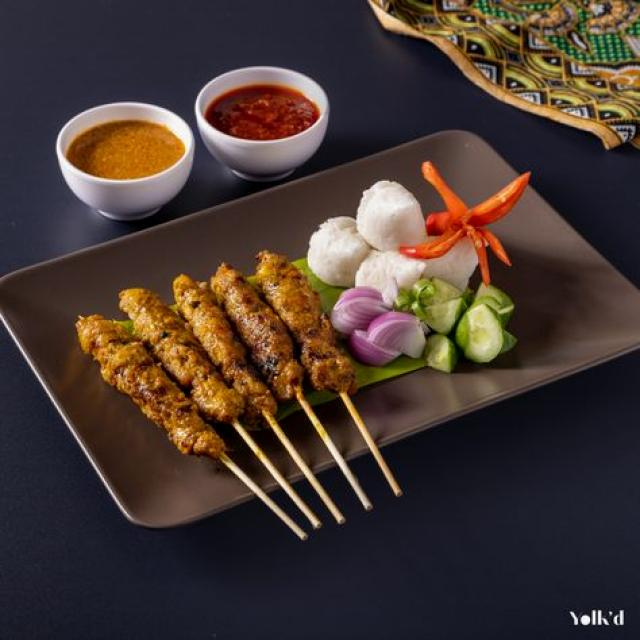sate: (74, 251, 404, 541)
